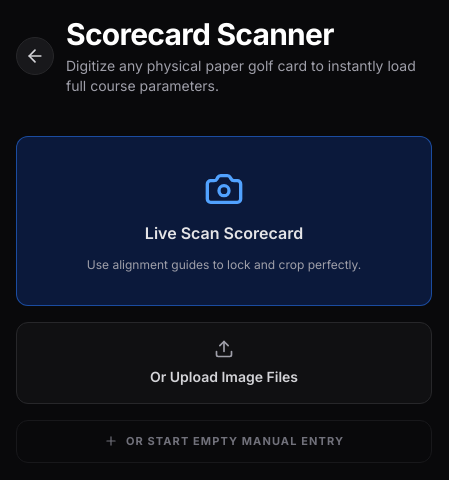
ScorecardScanner Camera Lifecycle Tests › handles camera permission denial gracefully and renders error fallback UI
Click the button that starts with "Live Scan Scorecard" at (224, 221), box [16,136,432,306]
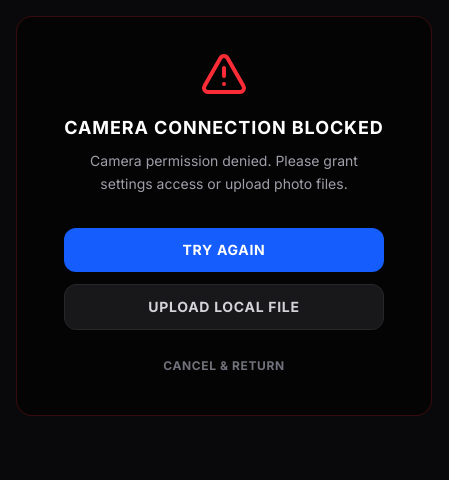
Check: the heading "Camera Connection Blocked" is shown, box [64,114,384,142]
Check: the button with id "camera-error-retry-btn" is shown, box [64,228,384,272]
Check: the button with id "camera-error-upload-btn" is shown, box [64,284,384,330]
